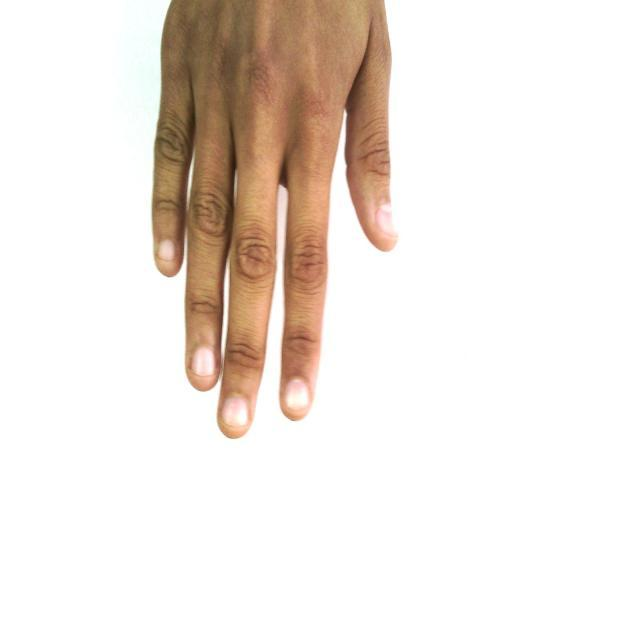Fingernail: (222, 396, 248, 427), (286, 379, 309, 413), (193, 348, 216, 377), (377, 205, 397, 236), (159, 241, 176, 260)
